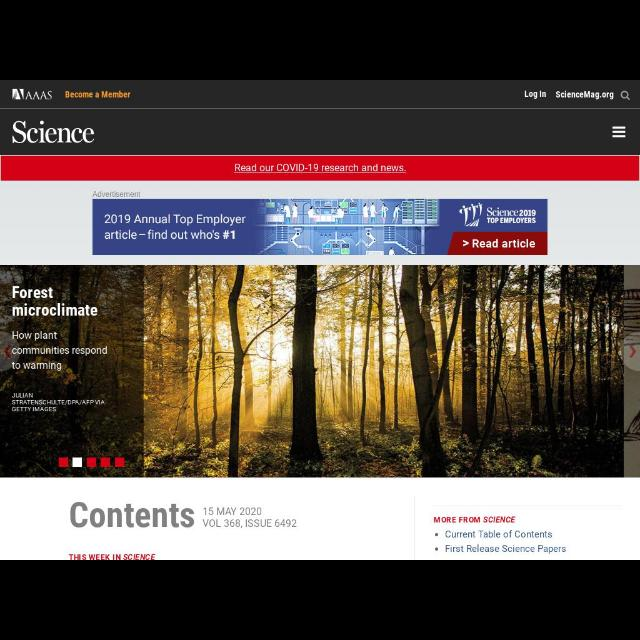backgroundimage: (3, 265, 639, 479)
icon: (610, 123, 628, 143), (458, 238, 470, 252), (622, 91, 630, 102), (434, 544, 440, 554), (434, 532, 441, 540)
iframe: (93, 188, 549, 252), (1, 154, 639, 182)
image: (8, 120, 94, 152), (10, 84, 56, 106), (462, 202, 484, 226)
link: (235, 161, 409, 175)
pageindicator: (56, 457, 126, 469)
text: (68, 498, 198, 534), (104, 211, 248, 243), (11, 330, 109, 374), (10, 284, 101, 322), (8, 390, 108, 418), (202, 508, 298, 530), (448, 544, 566, 554), (68, 549, 162, 559), (489, 208, 539, 226), (432, 515, 518, 525), (448, 532, 554, 540), (470, 238, 538, 250), (64, 90, 132, 100), (555, 91, 615, 101), (523, 90, 547, 100)
textbutton: (452, 234, 546, 254)
toolbar: (3, 84, 637, 154)
